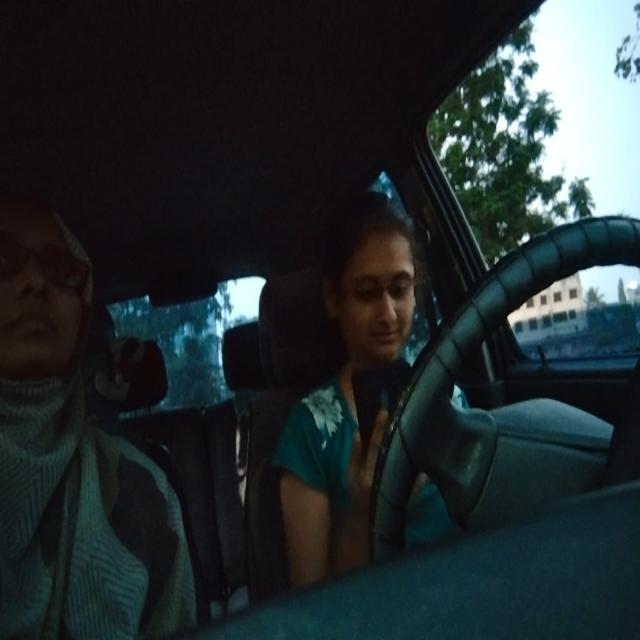mobile: (346, 359, 409, 450)
person: (0, 189, 93, 386), (326, 198, 425, 356)
